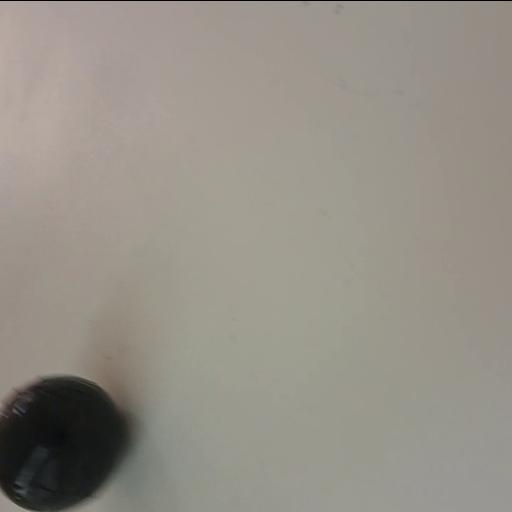dead: (0, 371, 128, 512)
